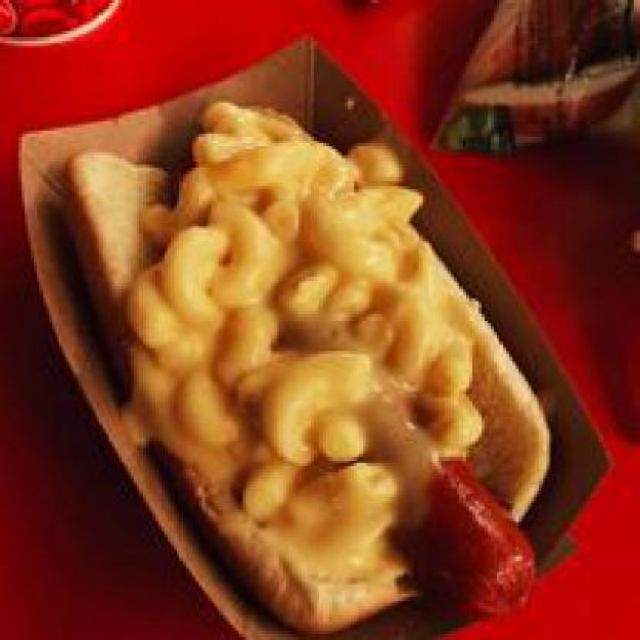hot dog: (386, 444, 562, 618)
macaroni and cheese: (124, 87, 476, 559)
